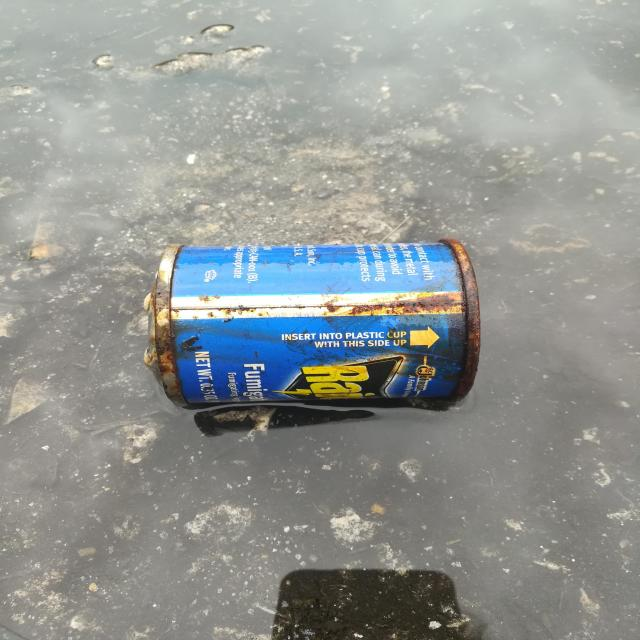litter: (147, 239, 485, 407)
